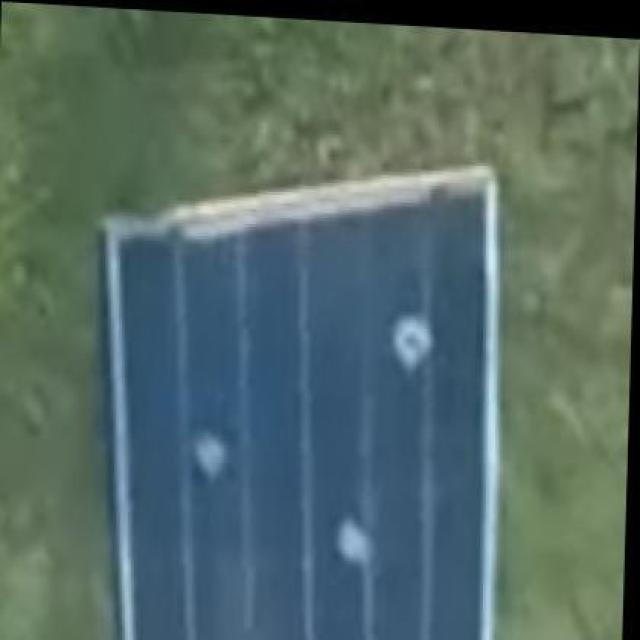soiled: (105, 172, 511, 640)
